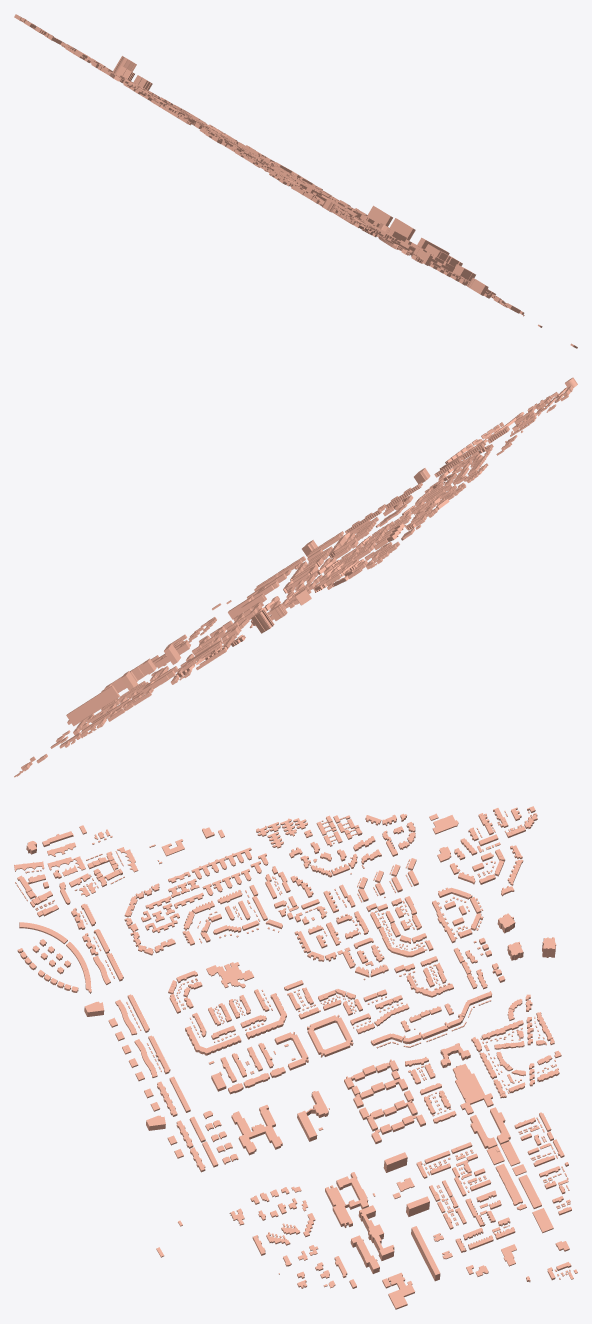
The picture shows the model from 3 angles, top to bottom: view 1: azimuth 30°, elevation 25°; view 2: azimuth 150°, elevation 25°; view 3: azimuth 270°, elevation 25°; orthographic projection. The views are drawn at different scales.
Size of the model in its own units: 1026 by 785 by 1277.
